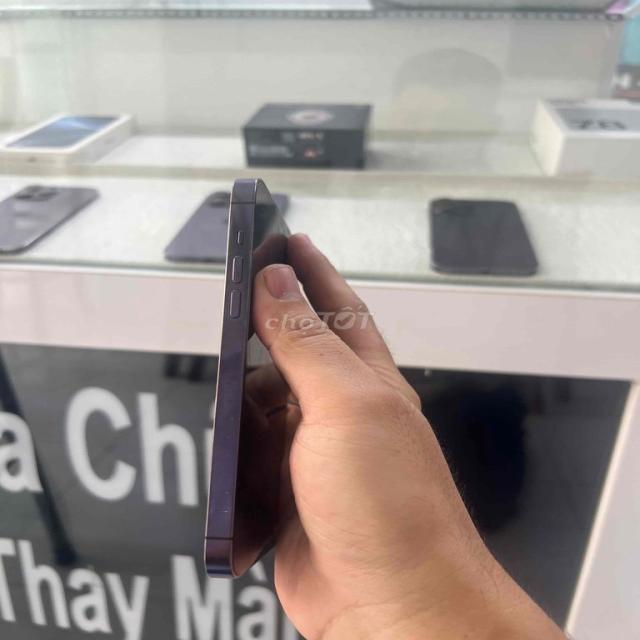gen_14: (198, 175, 298, 576)
